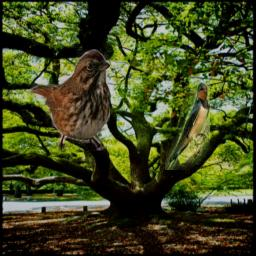Sparrow: (29, 49, 110, 151)
Swallow: (165, 82, 210, 170)
